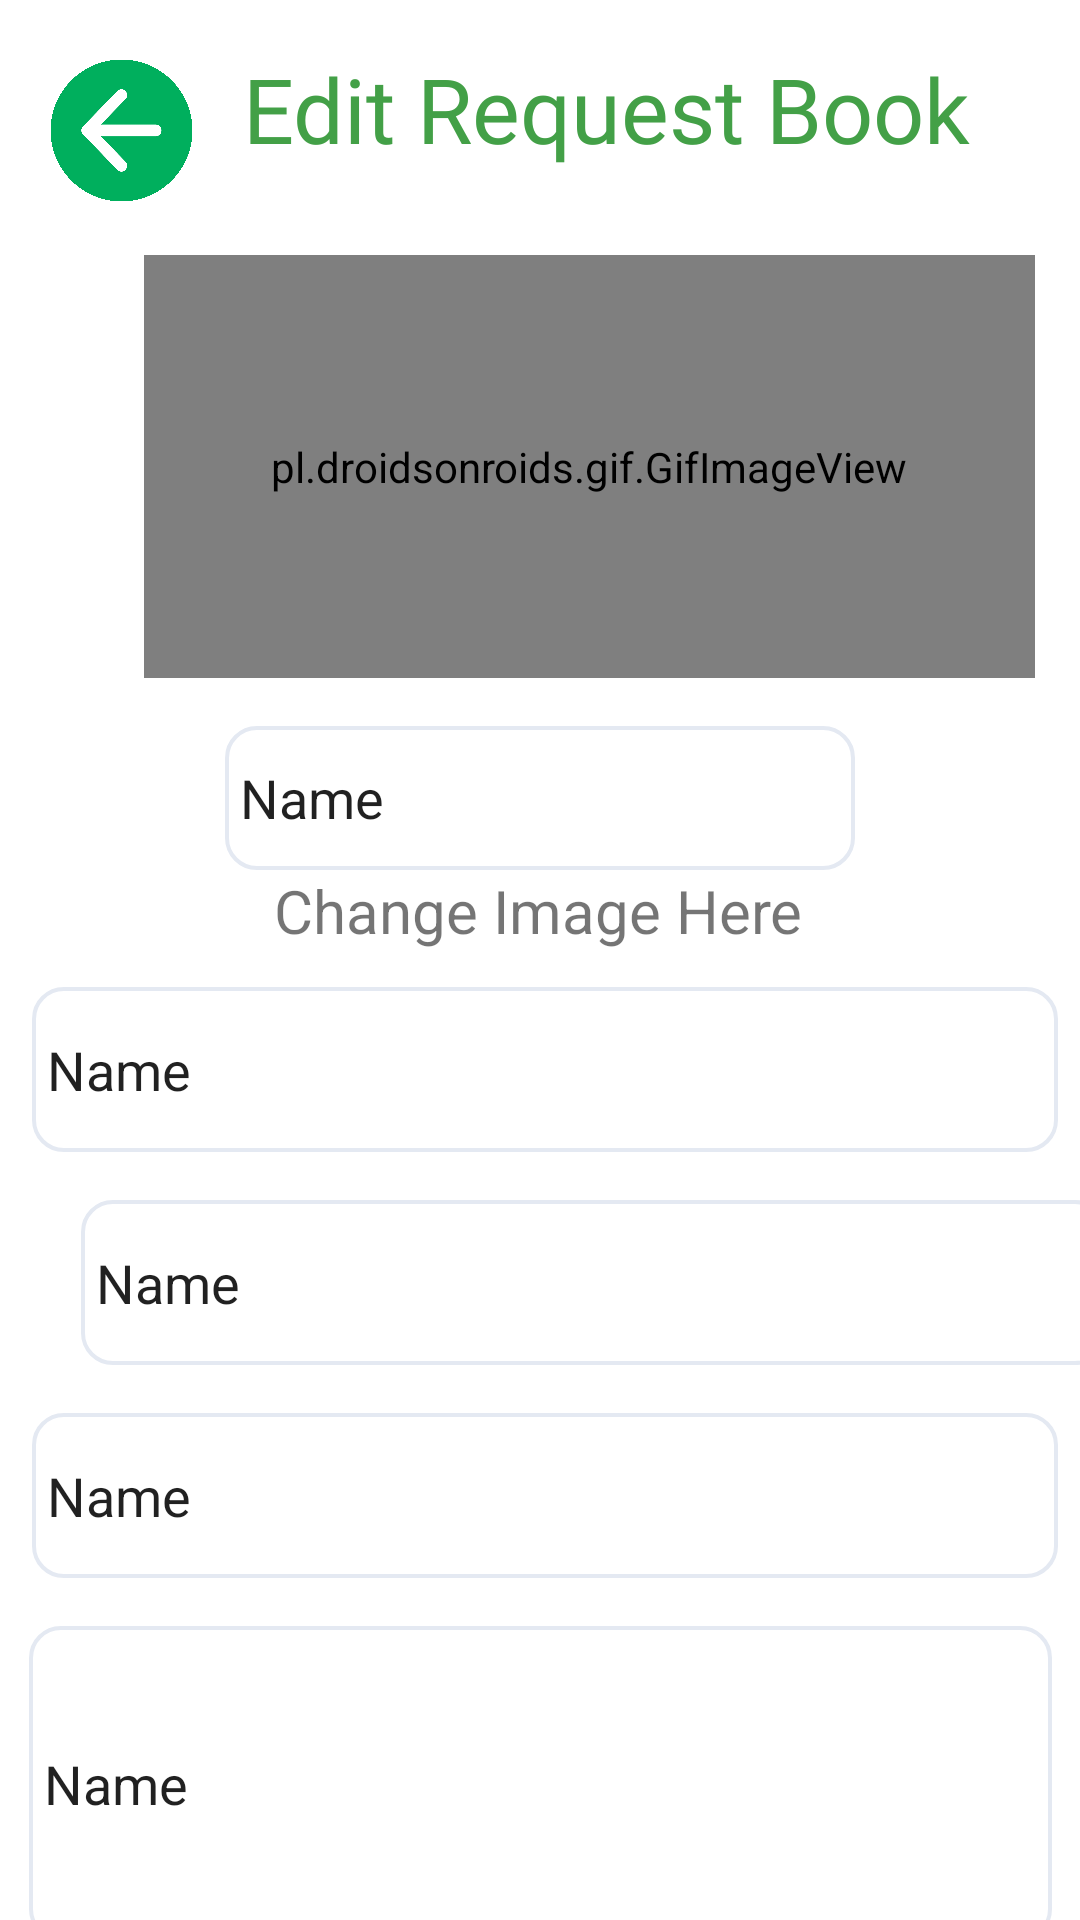

Icons on this 1080 × 1920 Android screen, each with its box as [x1, y1, x2, y2]:
backicon: [51, 60, 192, 201]
